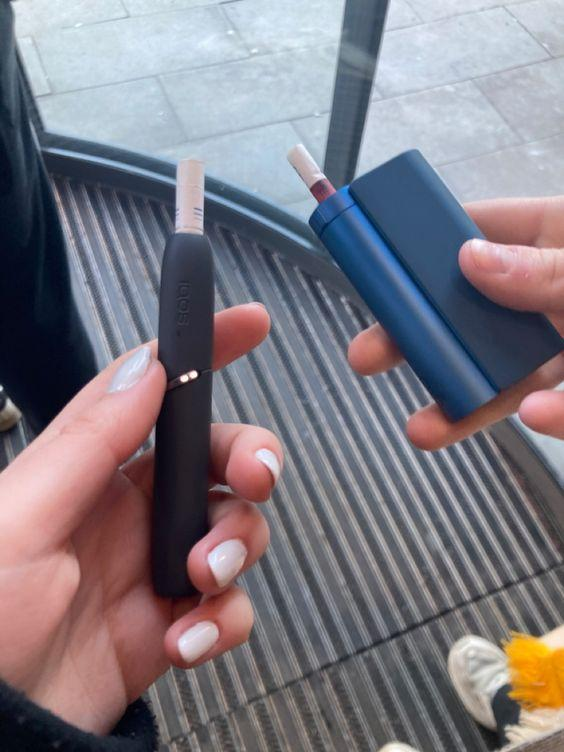iqos: (289, 145, 563, 421), (152, 162, 214, 598)
